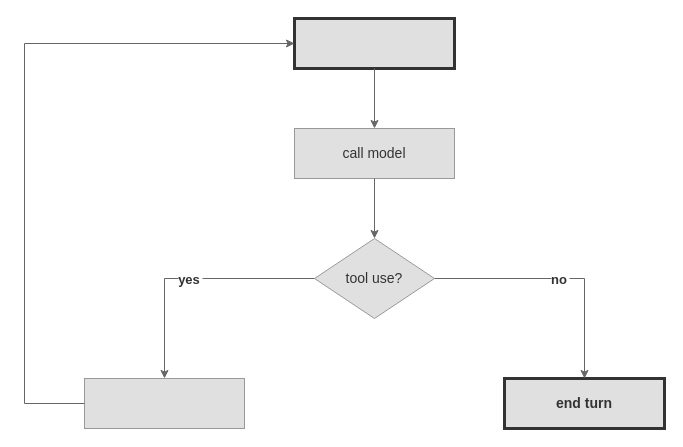
Image size: 683x447. Some labels were removed from this diagram. The shapes that lost their labels are listed below. From the top down, each one's box as (x1, y1, x2, y2) in pixels, then its label:
(292, 16, 456, 70): start turn
(84, 378, 244, 428): call tool(s)
